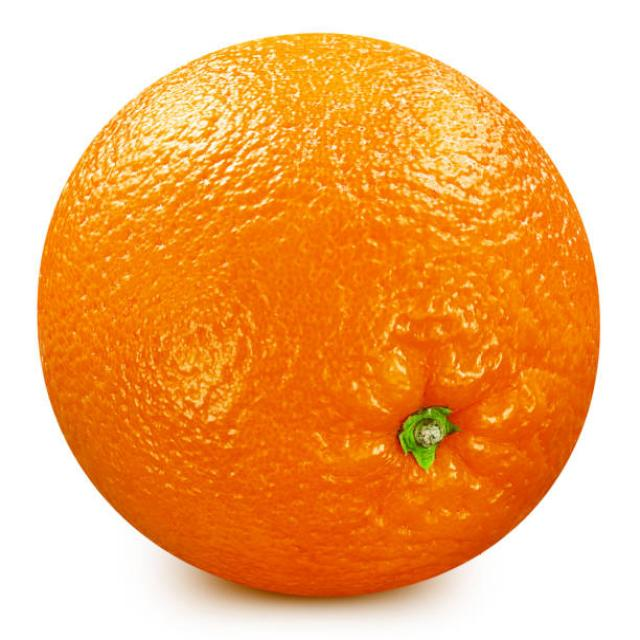Ripe: (35, 23, 606, 603)
